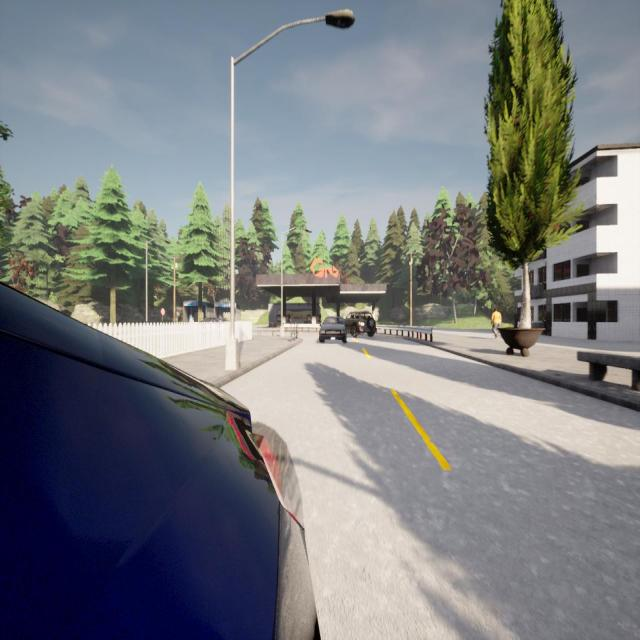Pedestrian: (491, 307, 501, 338)
Traffic_Signs: (160, 307, 166, 315)
Vehicle: (0, 281, 319, 640), (344, 310, 378, 338), (320, 316, 348, 344)
